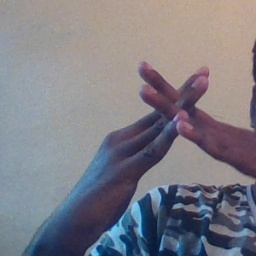W: (118, 55, 239, 193)
